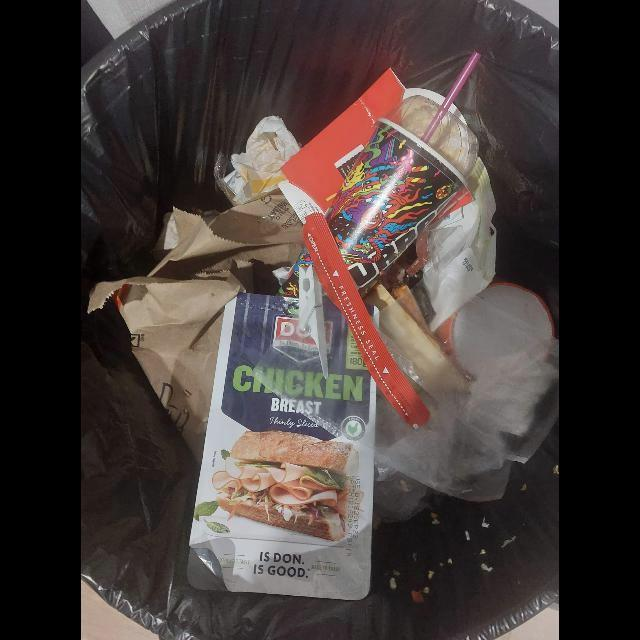cardboard: (323, 114, 470, 304), (281, 67, 407, 217)
food_wrapper: (187, 294, 377, 602)
paper: (86, 207, 305, 467), (424, 158, 498, 332), (223, 115, 301, 207)
plastic_bag: (370, 281, 559, 465), (374, 361, 513, 532)
plastic_container: (376, 95, 478, 193)
